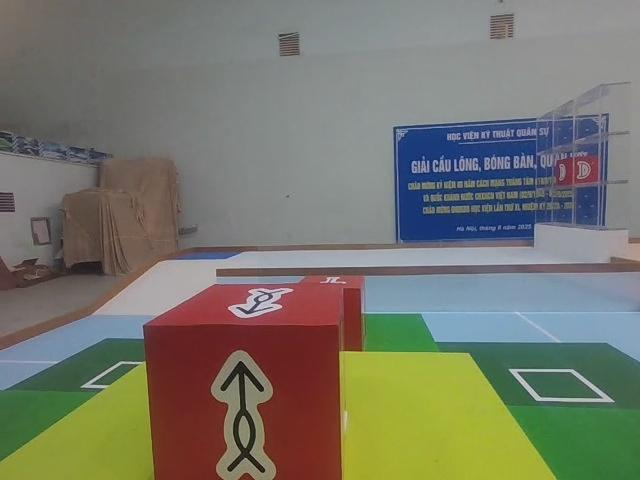R2 Real: (139, 279, 350, 480)
